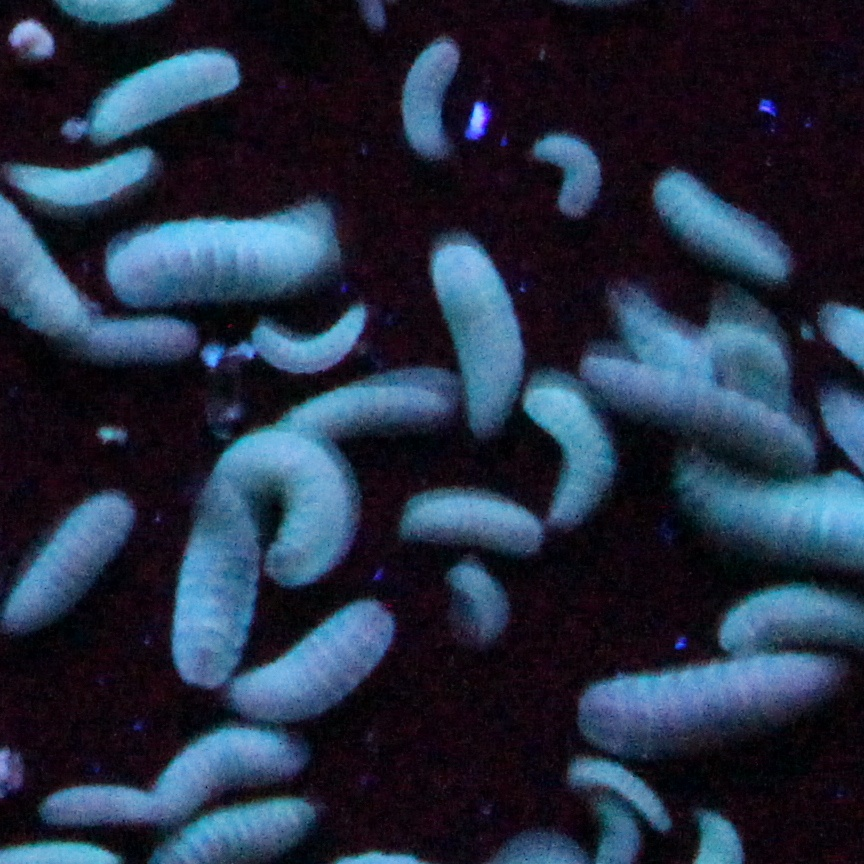larve: (214, 424, 346, 592), (590, 652, 830, 744), (606, 352, 822, 452), (246, 596, 390, 716), (110, 224, 334, 300), (158, 492, 246, 684), (6, 500, 130, 628), (650, 160, 786, 276), (95, 44, 252, 130), (158, 728, 322, 796), (442, 268, 514, 412), (542, 392, 614, 512), (418, 492, 562, 548), (3, 156, 160, 201), (242, 310, 369, 365), (38, 784, 182, 832), (454, 564, 526, 652), (394, 52, 450, 160), (75, 324, 200, 370), (546, 144, 610, 220)
